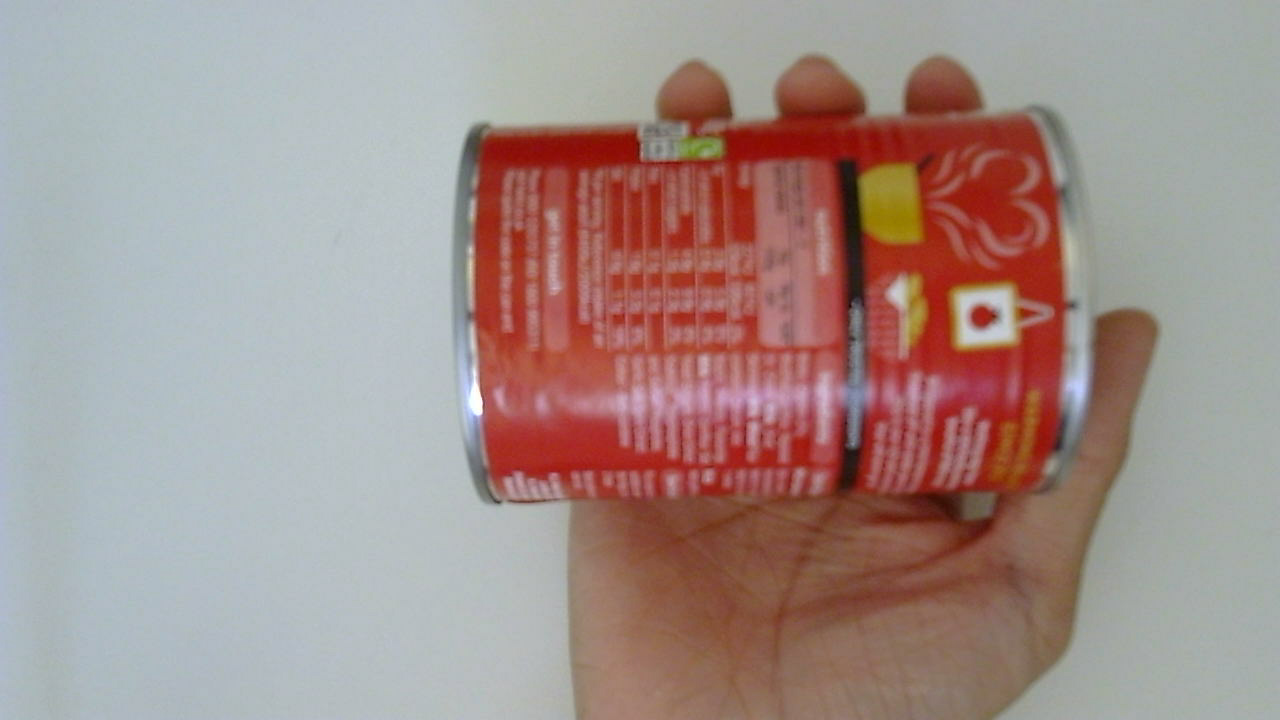Metal Tin: (453, 107, 1100, 517)
